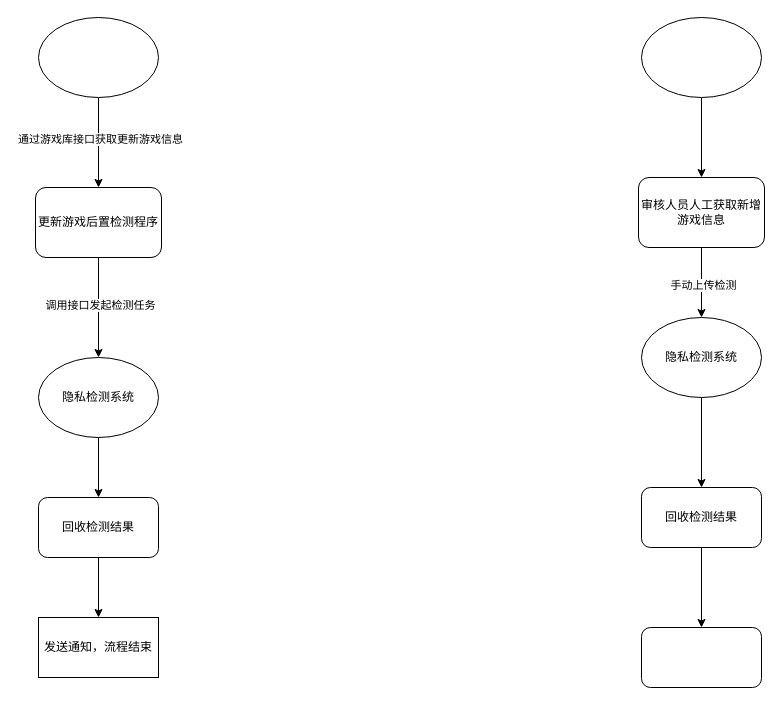
The diagram is 782 pixels wide and 705 high, and some of its shapes have lost their labels. Each missing label, with the box of its shape:
adminv2审核后台: (640, 16, 762, 98)
根据检测结果发送通知，并进行驳回/上架操作: (640, 626, 762, 688)
游戏库: (38, 16, 158, 98)
